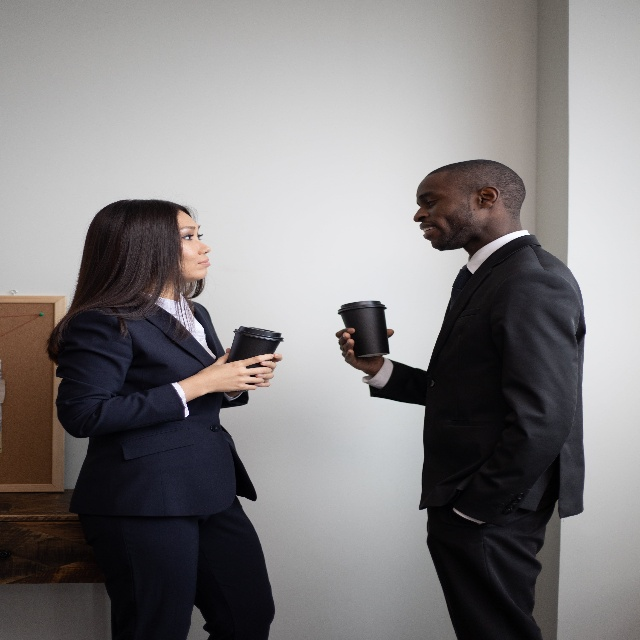Sin_guantes: (335, 327, 394, 375), (207, 353, 274, 393), (254, 352, 283, 388)
